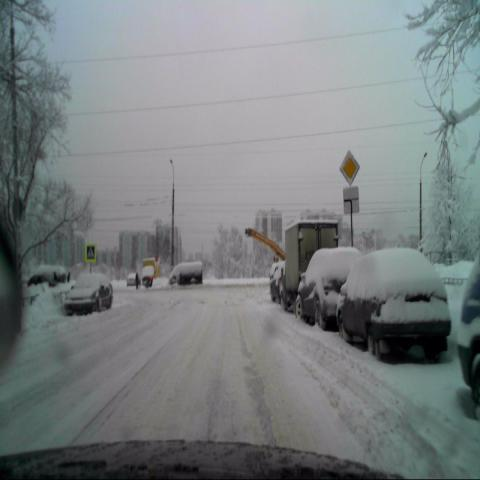2_1: (339, 148, 360, 185)
5_19_1: (85, 243, 96, 261)
8_13: (342, 184, 360, 213)
